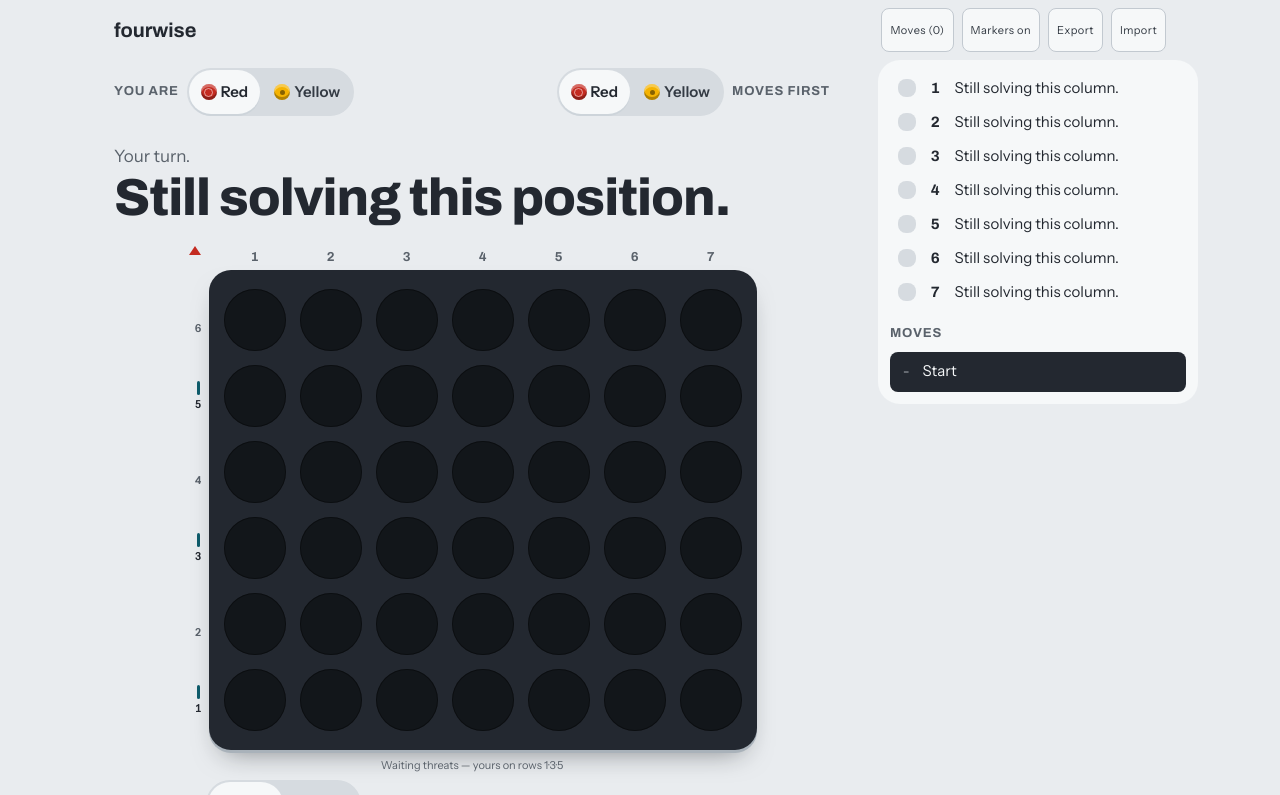
Test: Add a game from memory (design §16.4, DoD item 4) › Cancel discards the in-progress reconstruction and returns to Play without touching the live game
Press 4
(page scrolled)
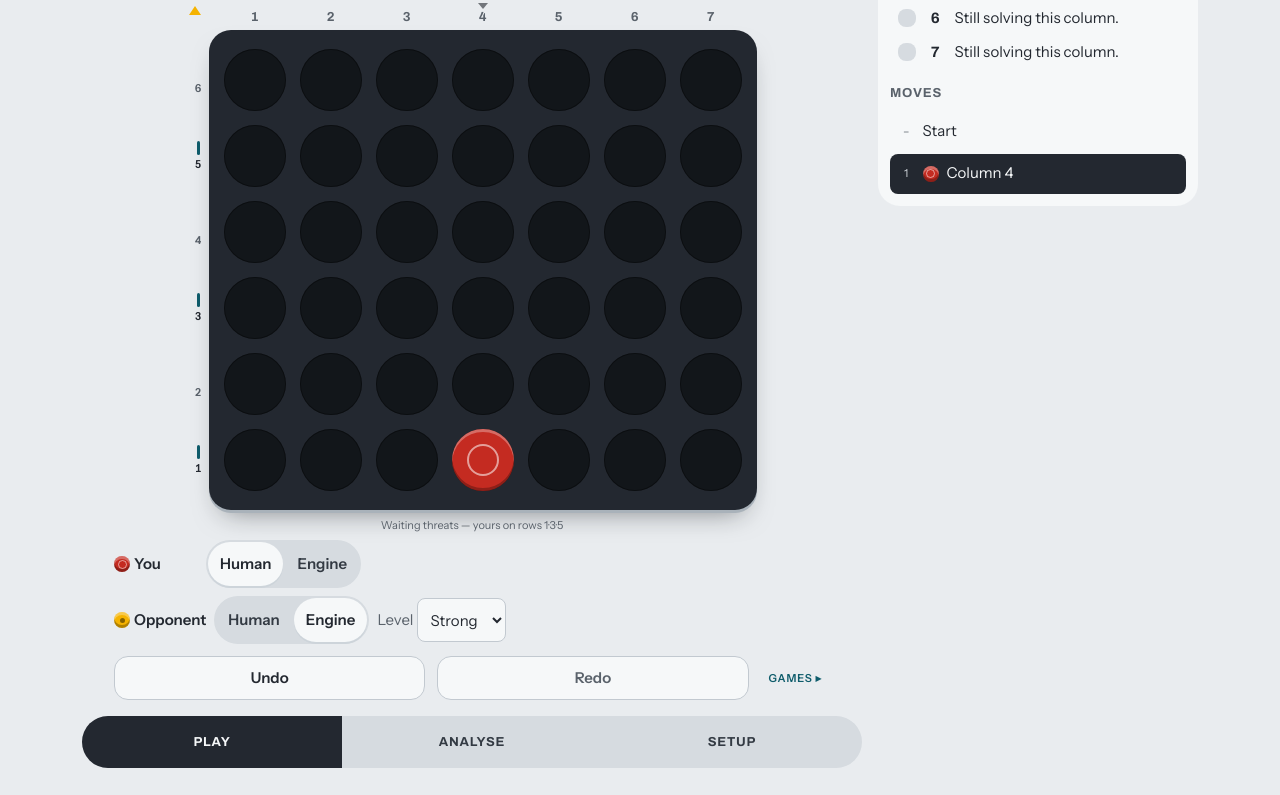
Click the button "Games ▸".
click(795, 678)  # box [761, 656, 830, 700]
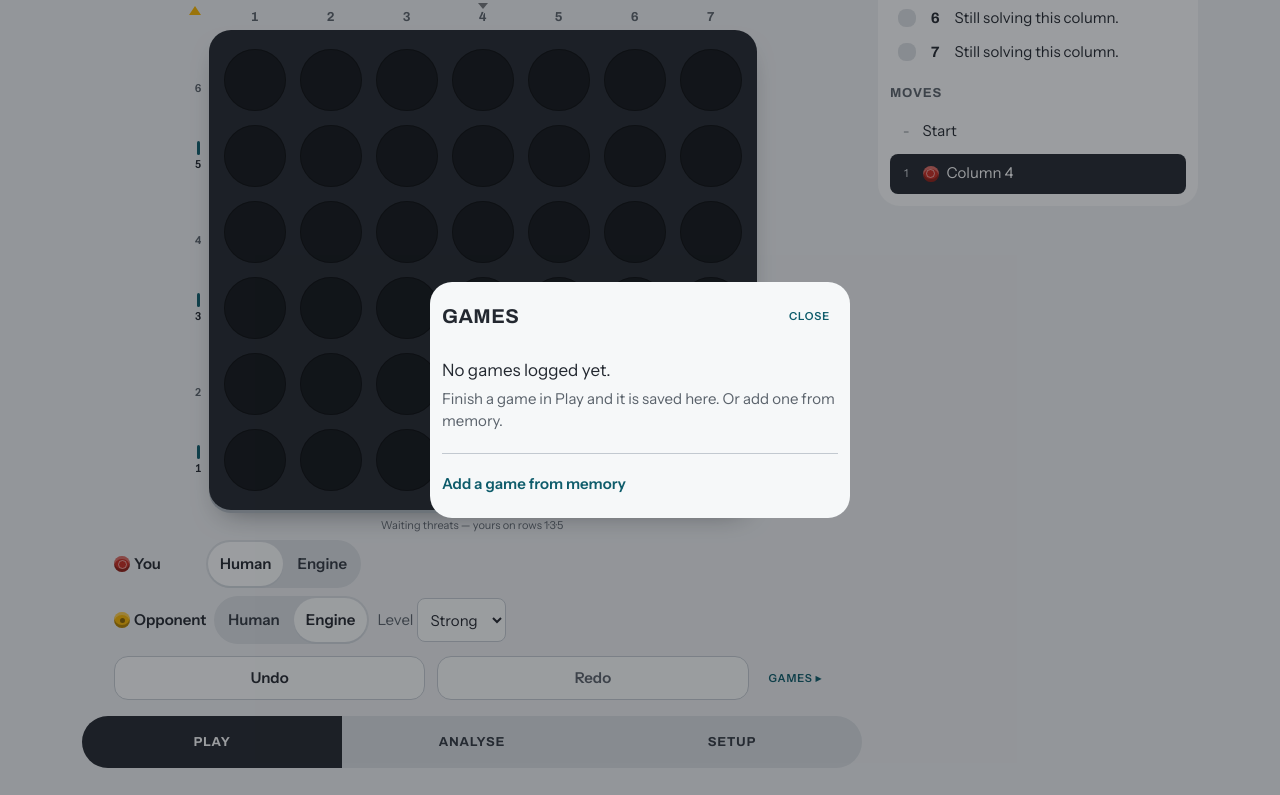
Click the button "Add a game from memory".
click(534, 483)  # box [442, 462, 838, 506]
(page scrolled)
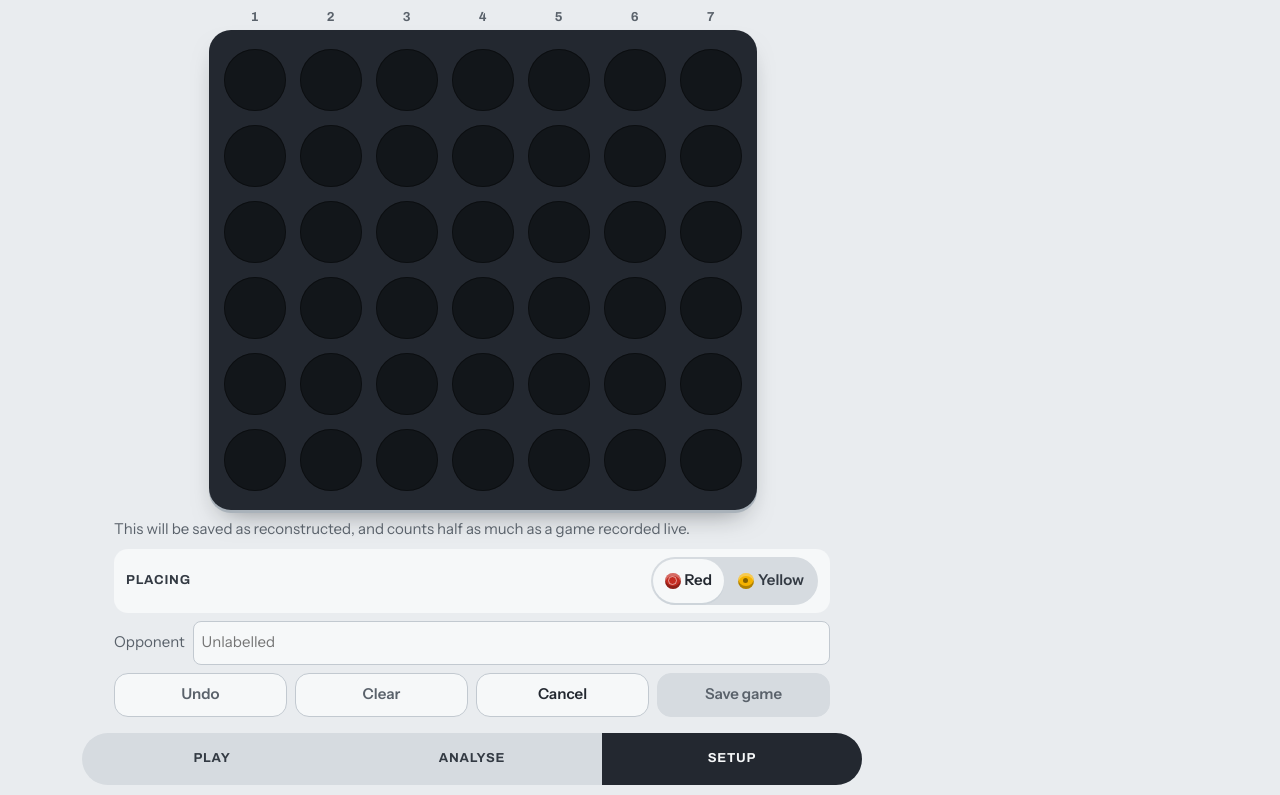
Click the button "Cancel".
click(562, 694)  # box [476, 672, 649, 716]
(page scrolled)
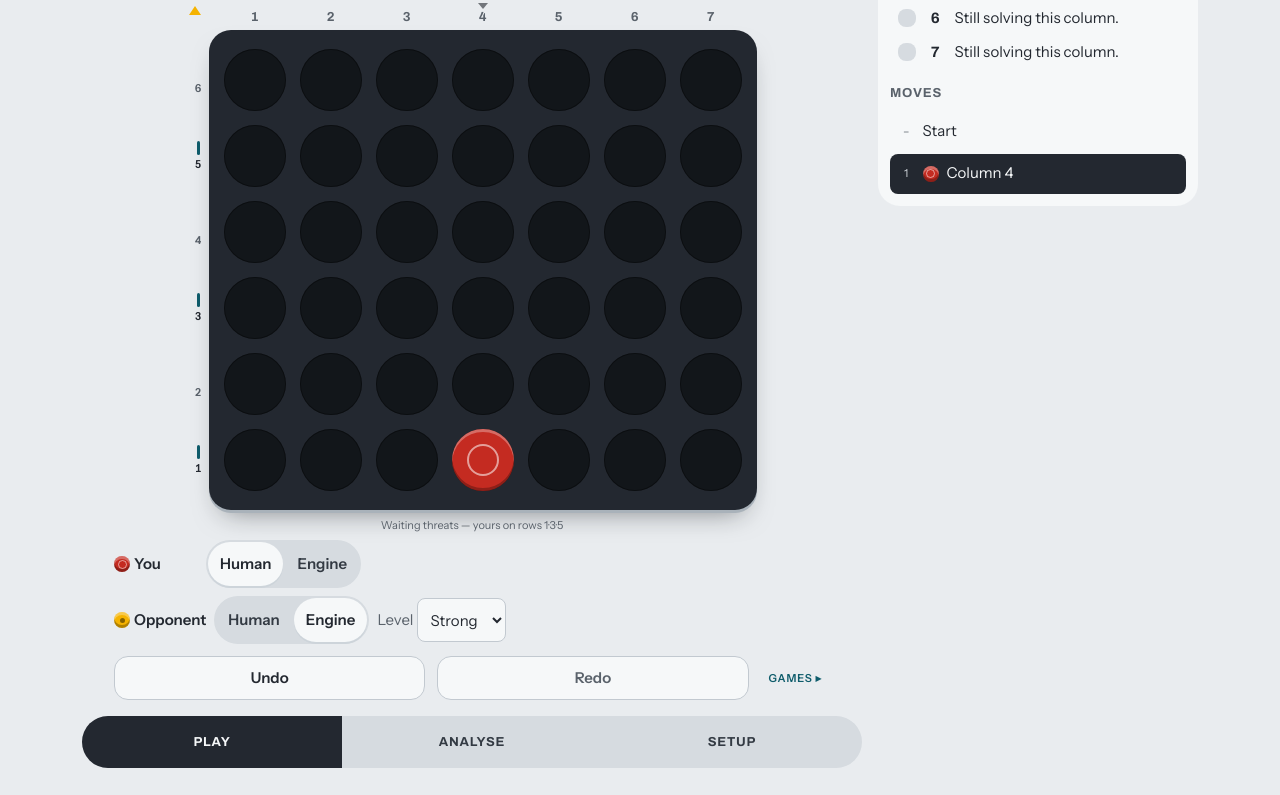
Expected: the tab "PLAY" is shown, [82, 716, 342, 768]
Click the button "Games ▸".
click(795, 678)  # box [761, 656, 830, 700]
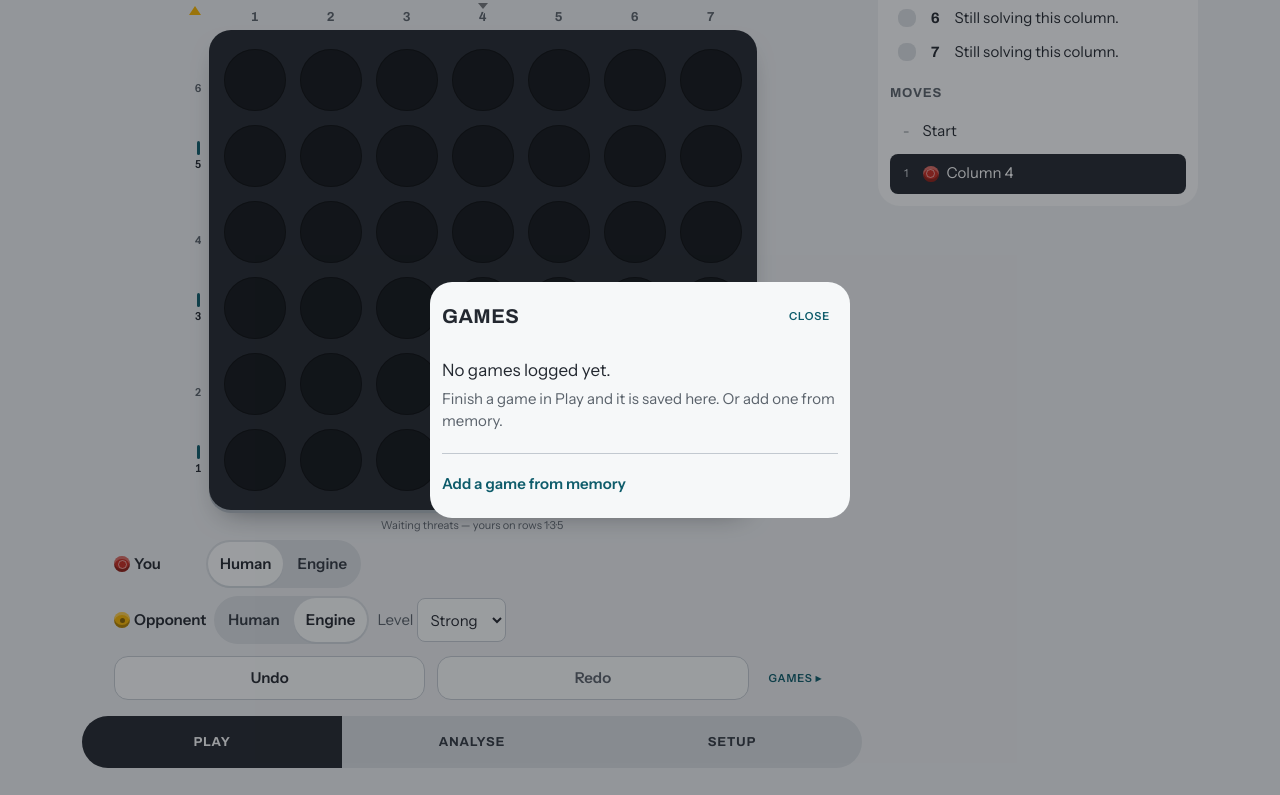
Expected: the text "No games logged yet." is shown, [442, 360, 610, 380]
